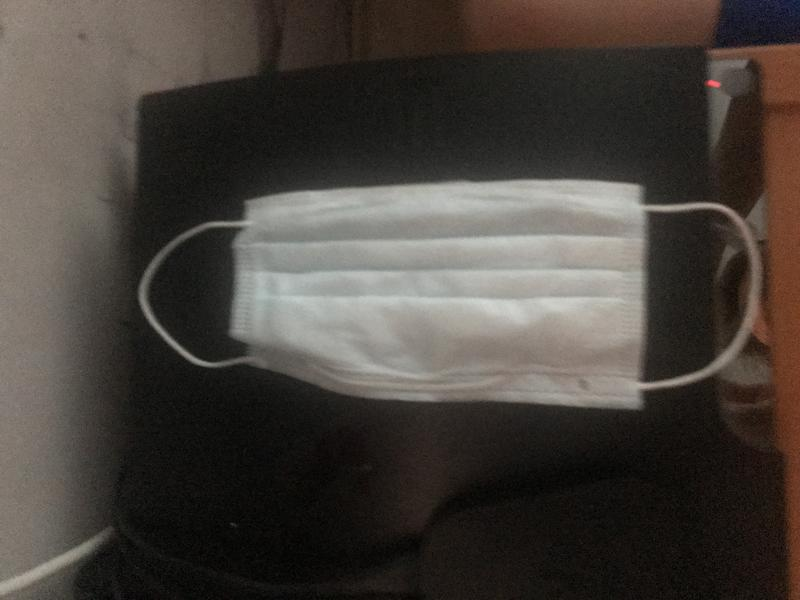medical_mask: (133, 185, 800, 404)
